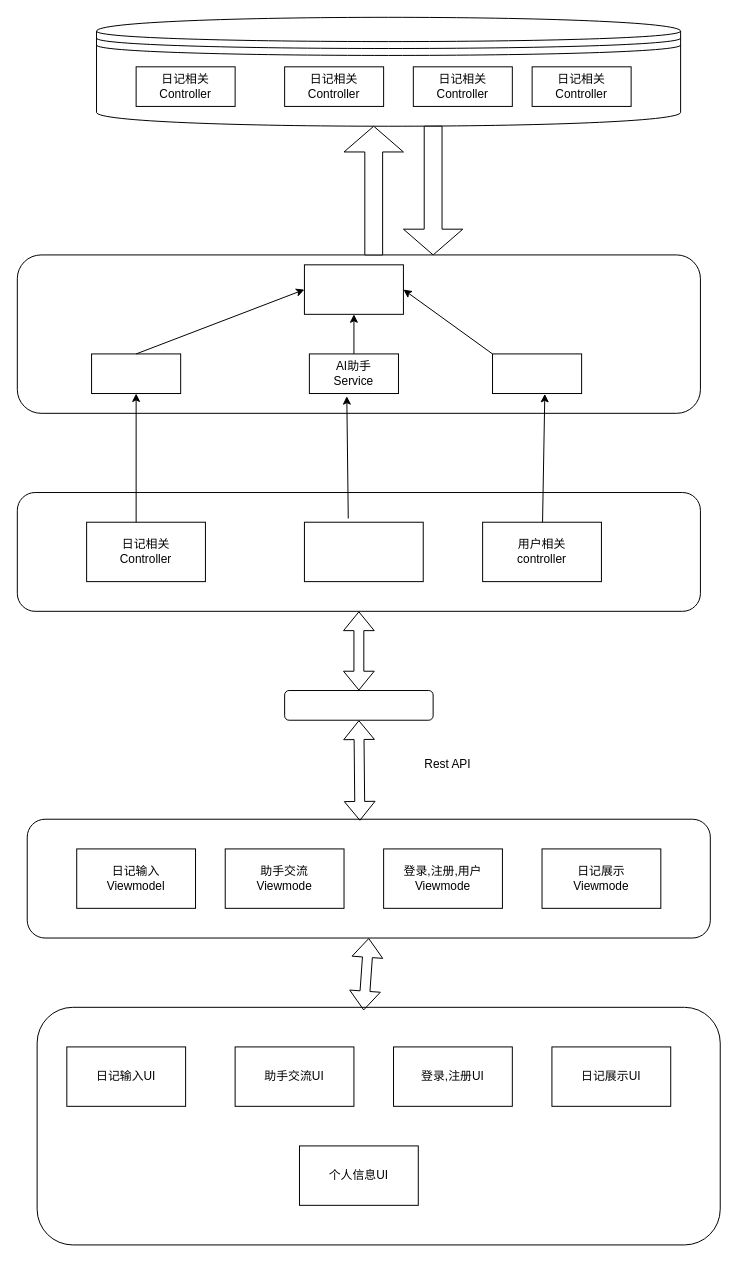
Image size: 738x1262. Some labels were removed from this diagram. Each missing label, with the centre of its shape:
"AI助手相关 controller" goes at point (363, 551).
"GPT Service" goes at point (353, 289).
"Internet" goes at point (358, 705).
"日记 Service" goes at point (136, 373).
"用户 Service" goes at point (537, 373).
